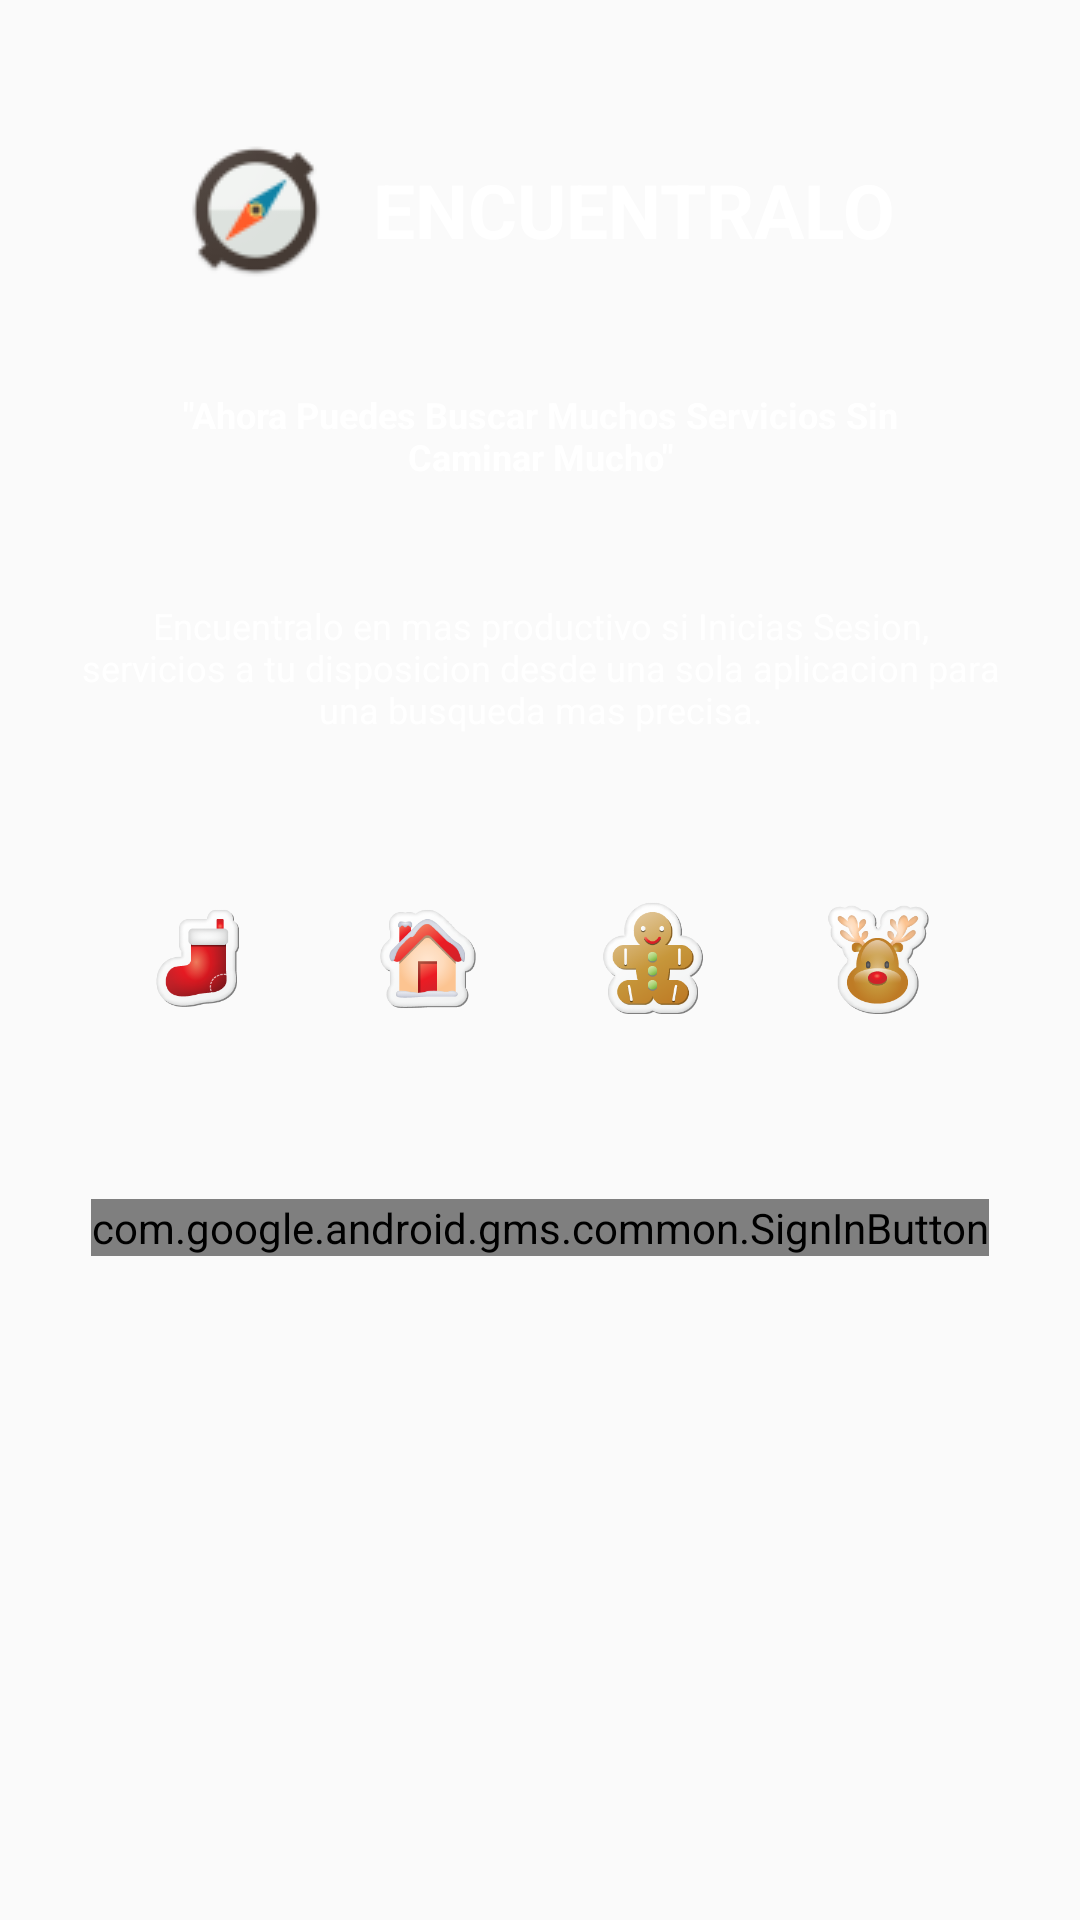

Icon click points for this 1080w x 1920h phone screenshot, format [x,y]:
bota: [198,958]
casa: [428,959]
pan: [654,958]
reno: [880,960]
